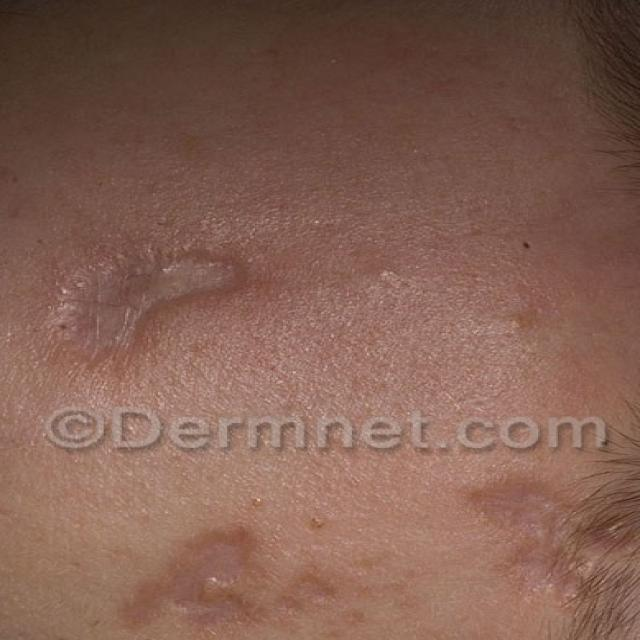Viral Infections: (0, 197, 311, 386), (104, 493, 413, 640), (462, 465, 604, 607)
